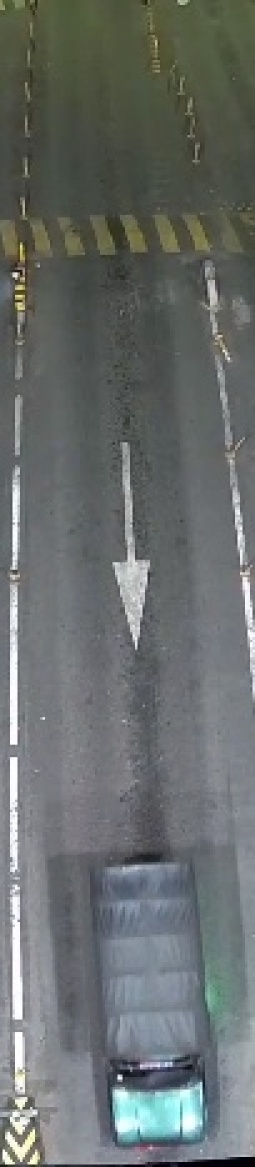truck: (90, 845, 230, 1153)
